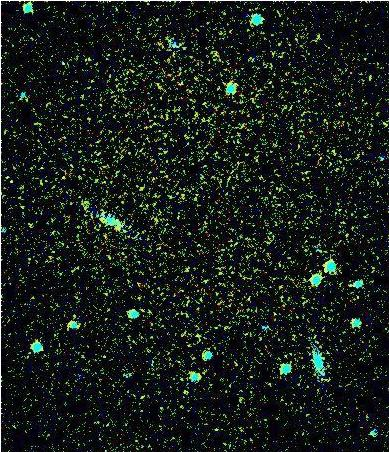star: (12, 83, 42, 113)
